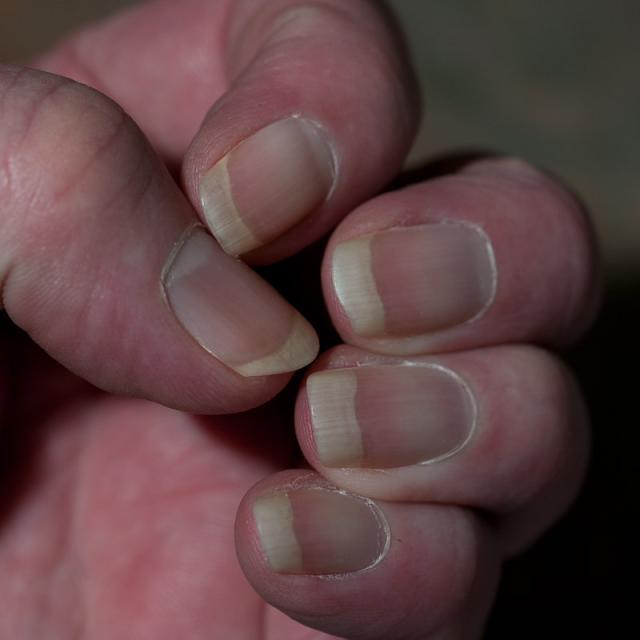Fingernail: (164, 229, 321, 379), (201, 116, 340, 261), (334, 222, 493, 339), (309, 363, 476, 469), (256, 483, 389, 578)
